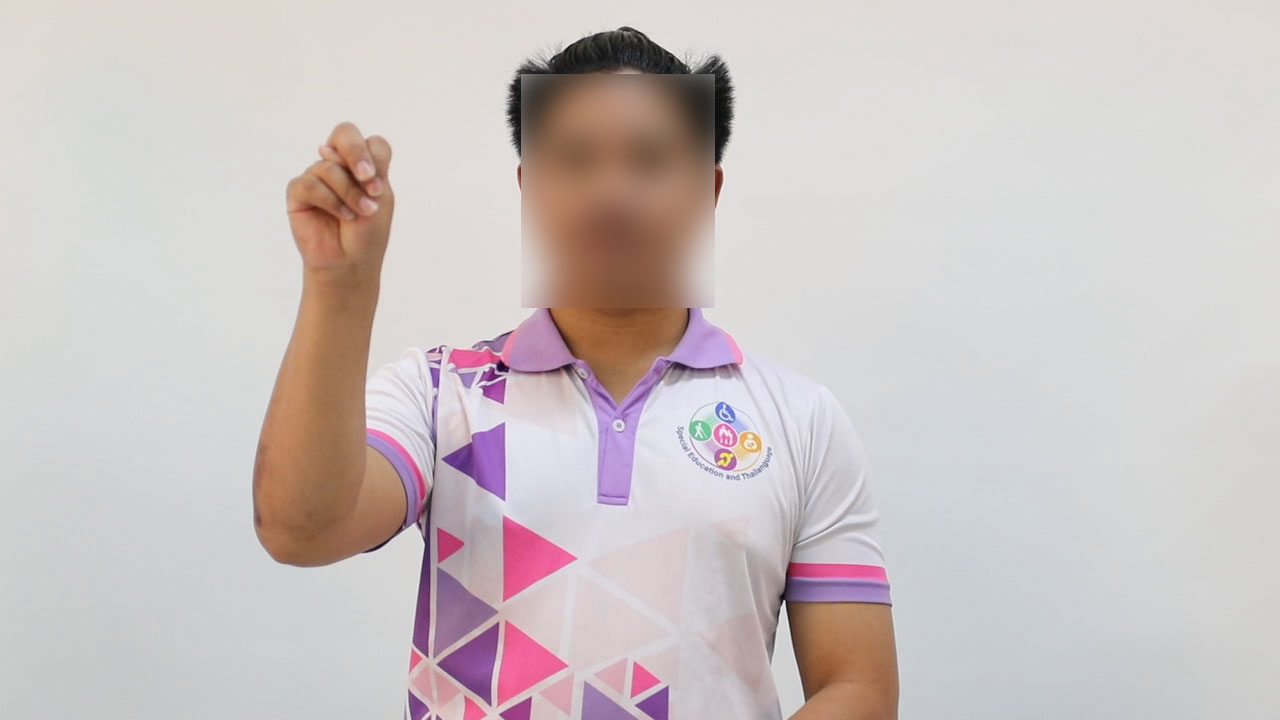nor: (284, 117, 401, 284)
